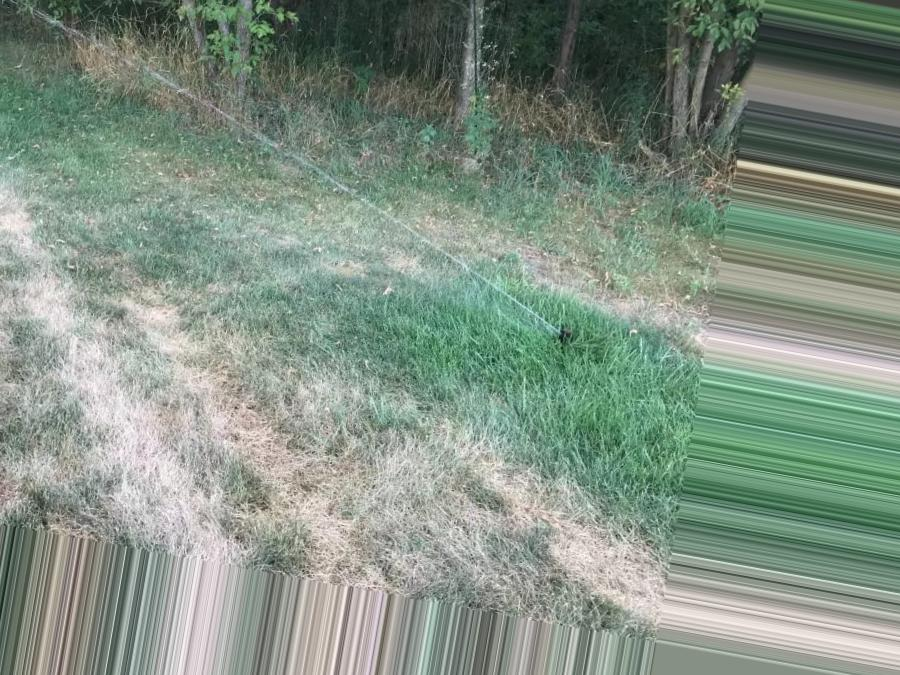patch: (23, 362, 234, 529), (258, 445, 470, 572), (9, 239, 196, 359), (545, 525, 659, 596)
